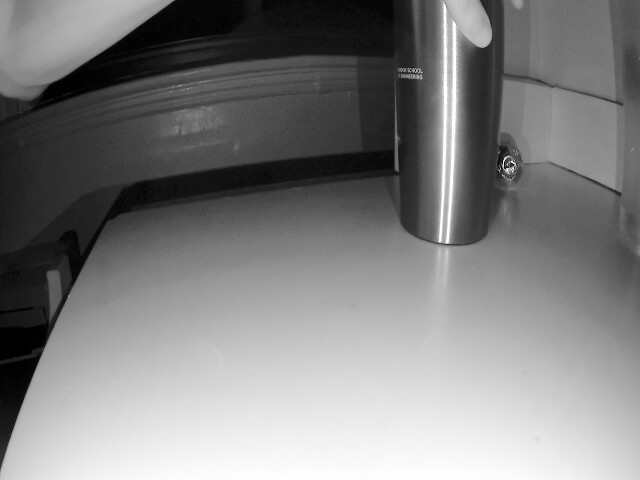black: (492, 148, 524, 186)
